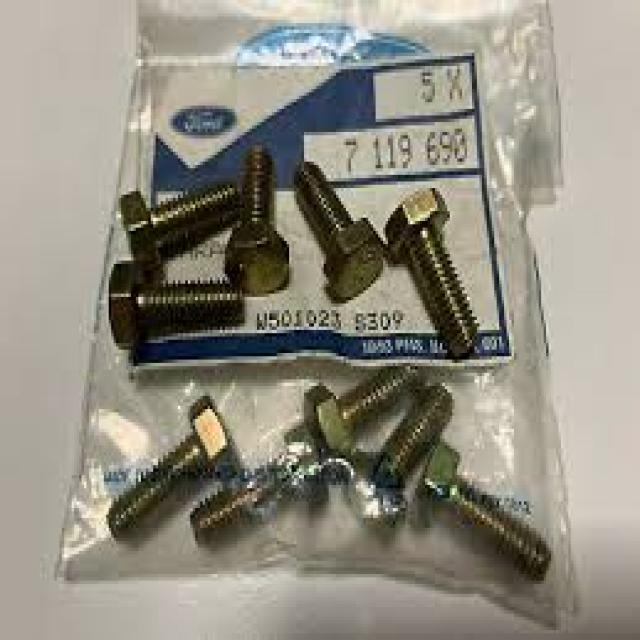metal: (415, 435, 549, 584), (188, 423, 324, 568), (104, 396, 230, 541), (383, 185, 474, 356), (348, 383, 450, 525), (289, 159, 386, 301), (304, 353, 418, 459), (106, 261, 242, 347), (116, 185, 240, 271), (223, 142, 287, 290)
